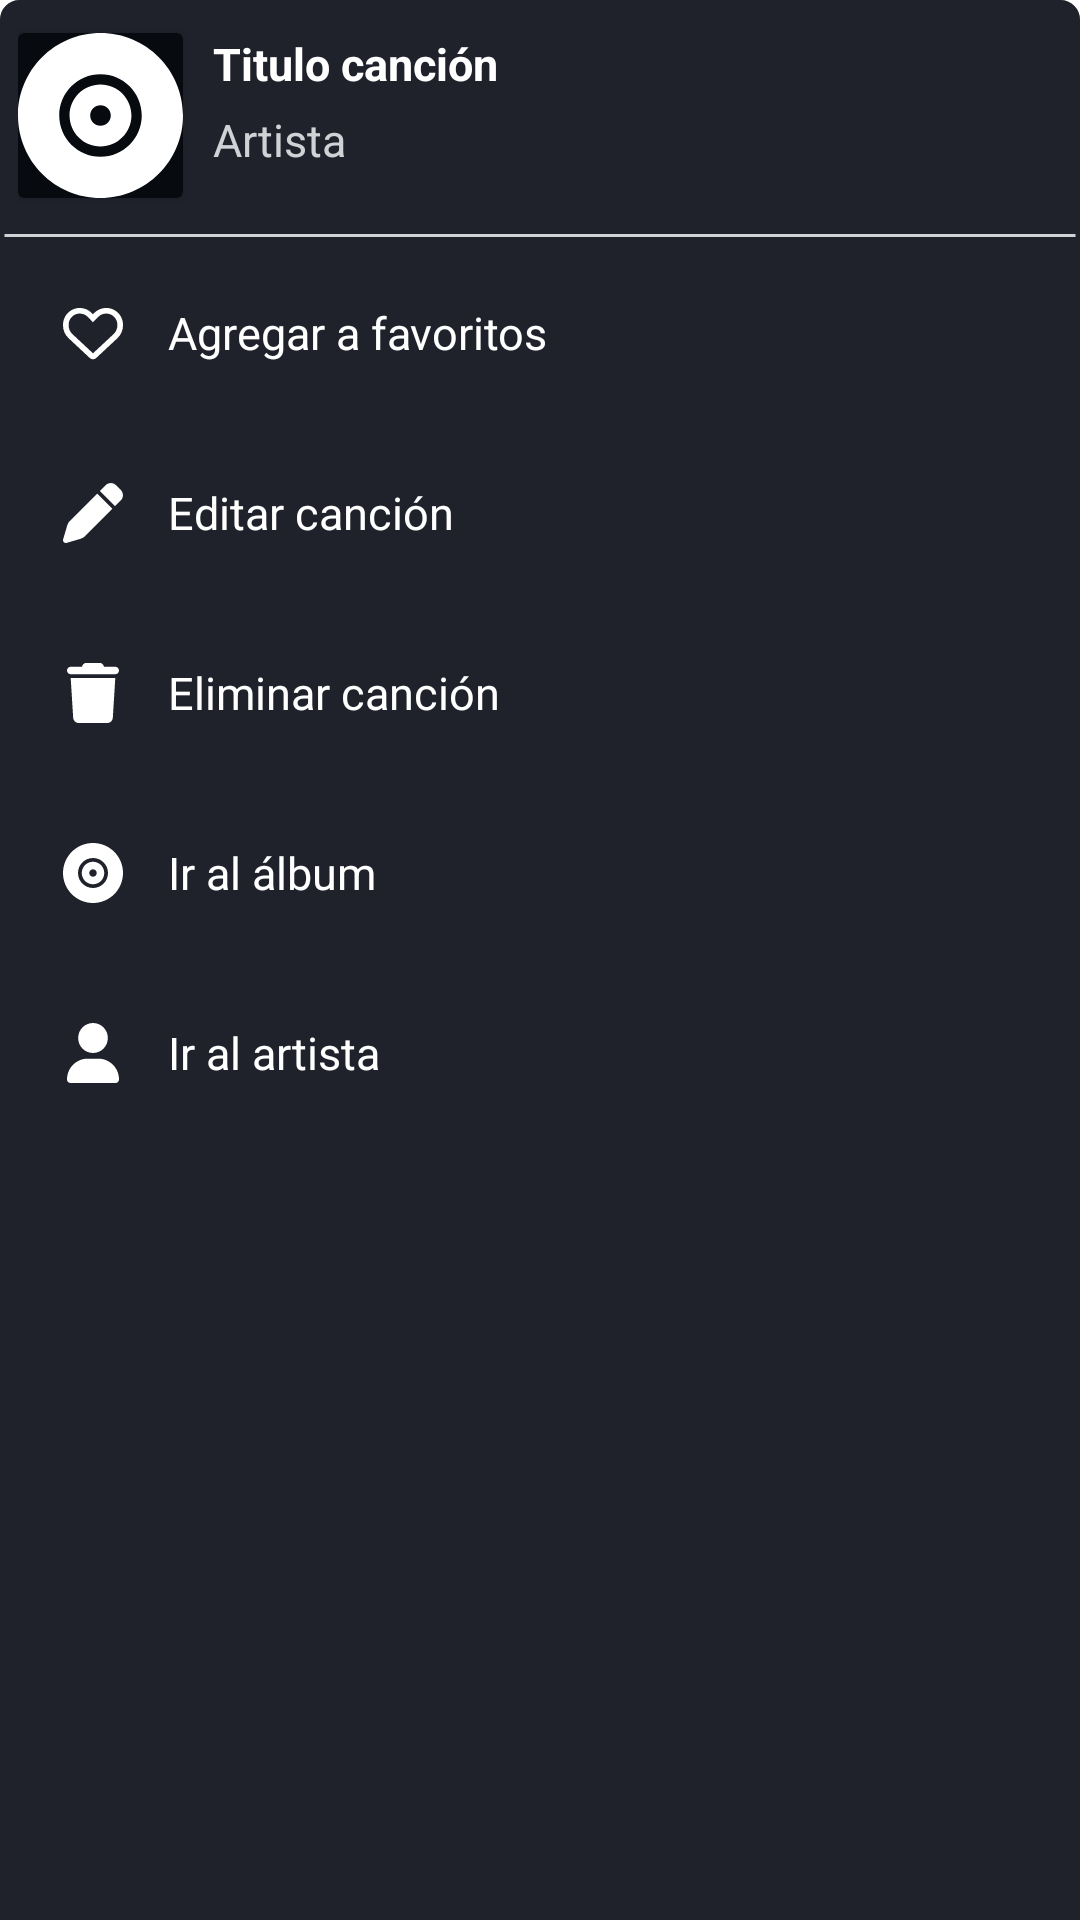

Point at icon controls on the screen. Image size 1080w x 1920h, points as point (x, y).
heart: point (93, 334)
pen: point (93, 513)
record vinyl: point (100, 115), point (93, 873)
trash: point (93, 693)
user: point (93, 1053)
